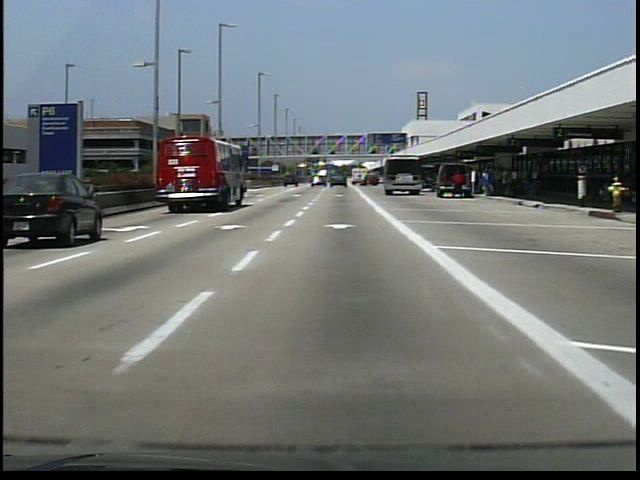person: (451, 168, 467, 204)
